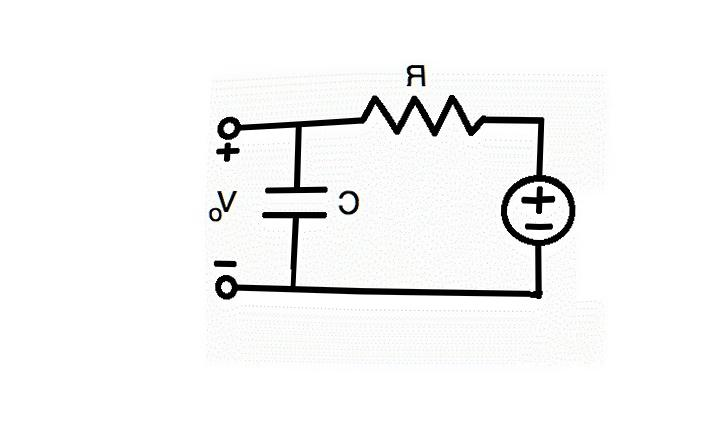Battery: (474, 161, 606, 270)
